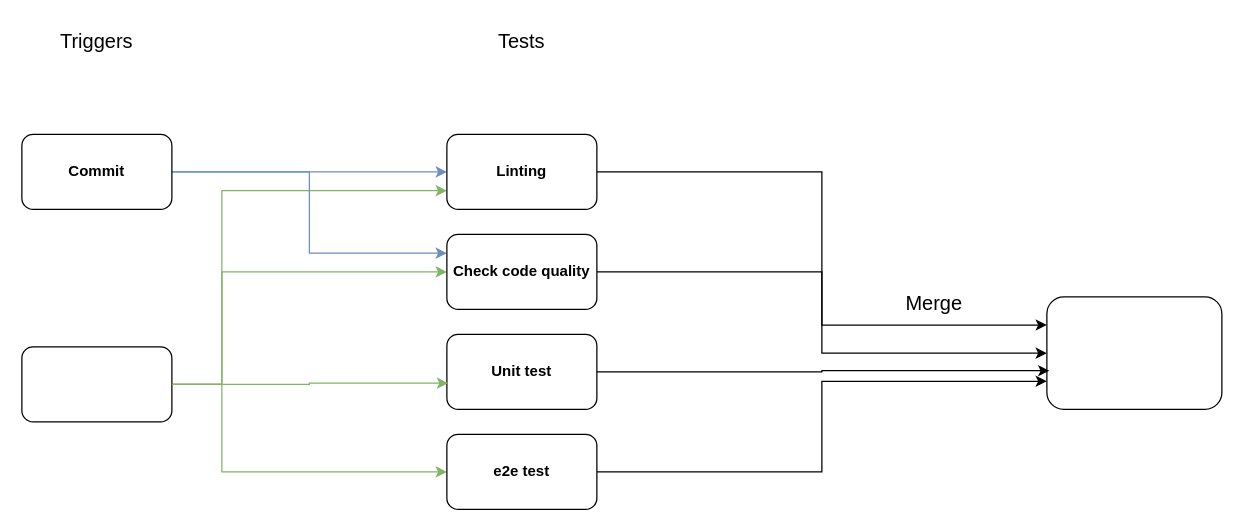
The diagram is 1244 pixels wide and 531 high, and some of its shapes have lost their labels. The shapes that lost their labels are listed below. From the top down, each one's centre as x and y in pixels, then its label:
[1134,352]: CI
[96,384]: Pull Request
